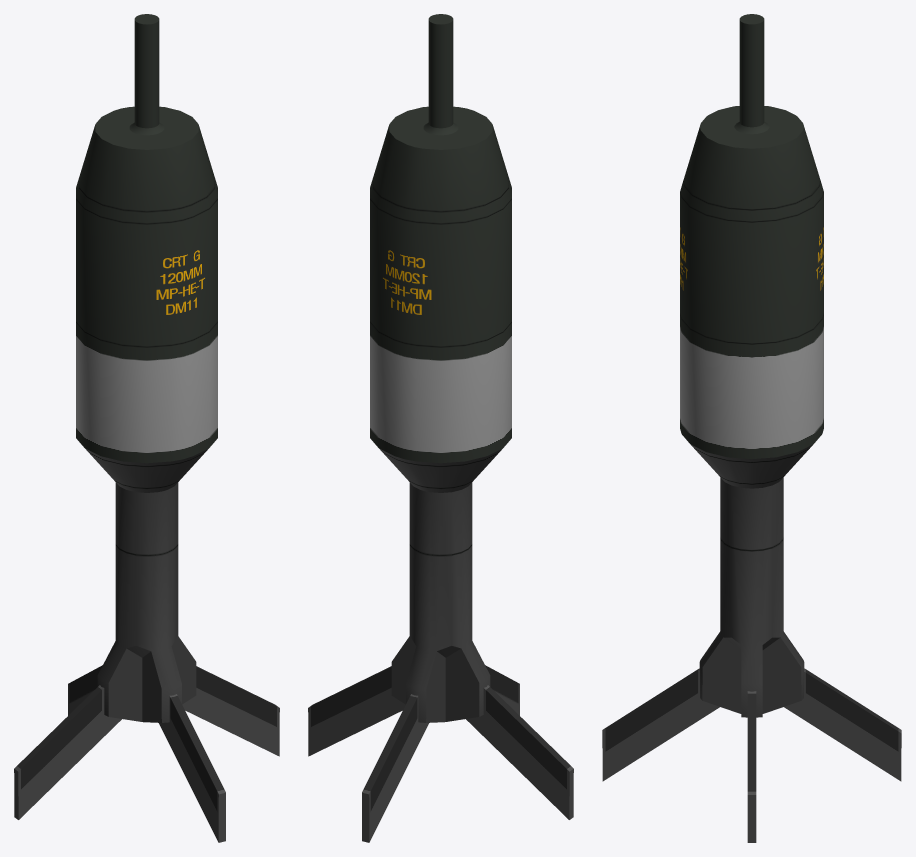
File: TANKSHELL_HEAT.FBX
3 views of the same model, side by side, from view 1: azimuth 30°, elevation 25°; view 2: azimuth 150°, elevation 25°; view 3: azimuth 270°, elevation 25° (orthographic).
Parts seen in each view (by area): view 1: Cylinder001; view 2: Cylinder001; view 3: Cylinder001.
Boxes of the visible parts, x1,y1,x2,y2 form: Cylinder001: [14, 14, 279, 842]; Cylinder001: [308, 14, 573, 842]; Cylinder001: [602, 14, 901, 842].
Size of the model in its own units: 106 by 297 by 106.
Materials: 1 (1 with a texture image).
